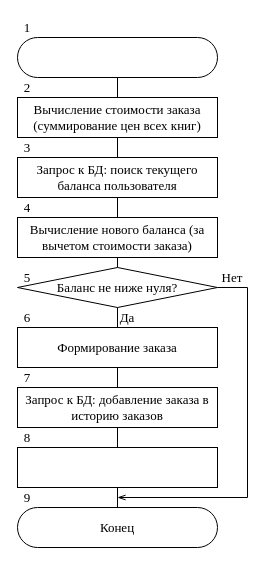
This 273x565 diagram has some shape labels left out. Each missing label, with the centre of its shape:
"Запрос к БД: обновление баланса пользователя" belongs at pixel 117 467.
"Покупка книг" belongs at pixel 117 57.
